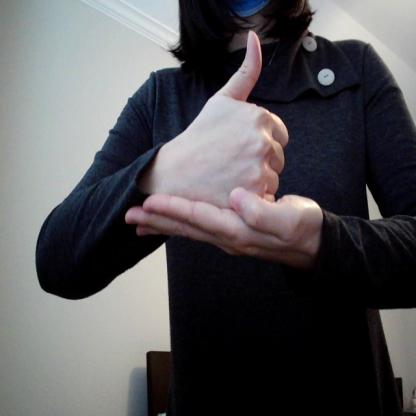help: (119, 27, 330, 269)
